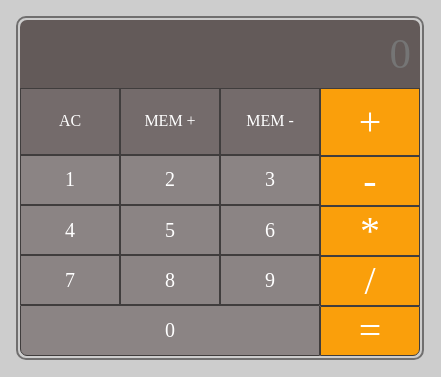
Test: App component › should make math operations
Click the button "2". click: (170, 180)
box: 120,155 -> 220,205
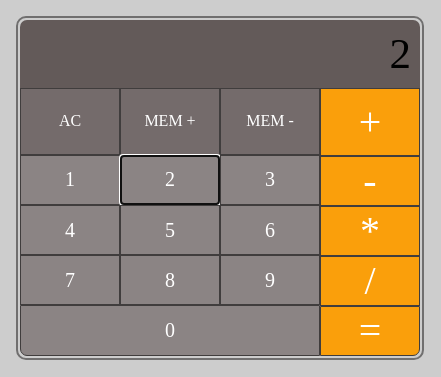
Click the button "+". click: (370, 122)
box: 320,88 -> 420,156
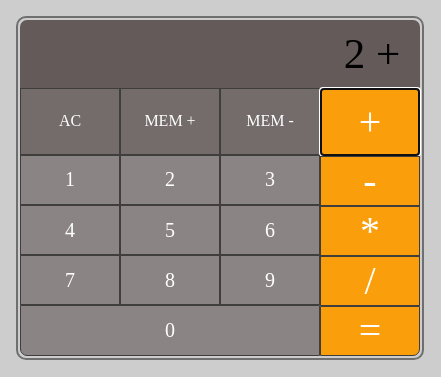
Click the button "2". click: (170, 180)
box: 120,155 -> 220,205
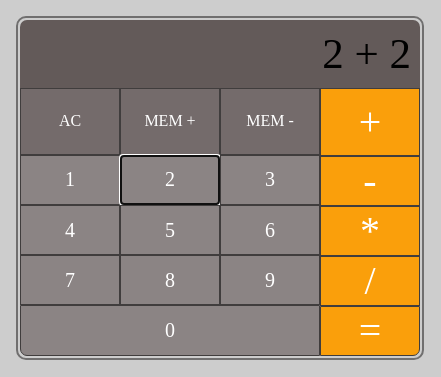
Click the button "=". click: (370, 331)
box: 320,306 -> 420,356
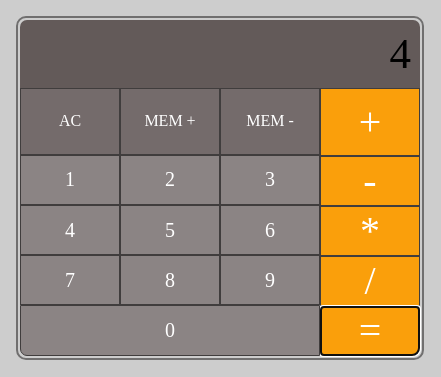
Expected: the field with placeholder "0" holds "4", 20,20 -> 420,88
